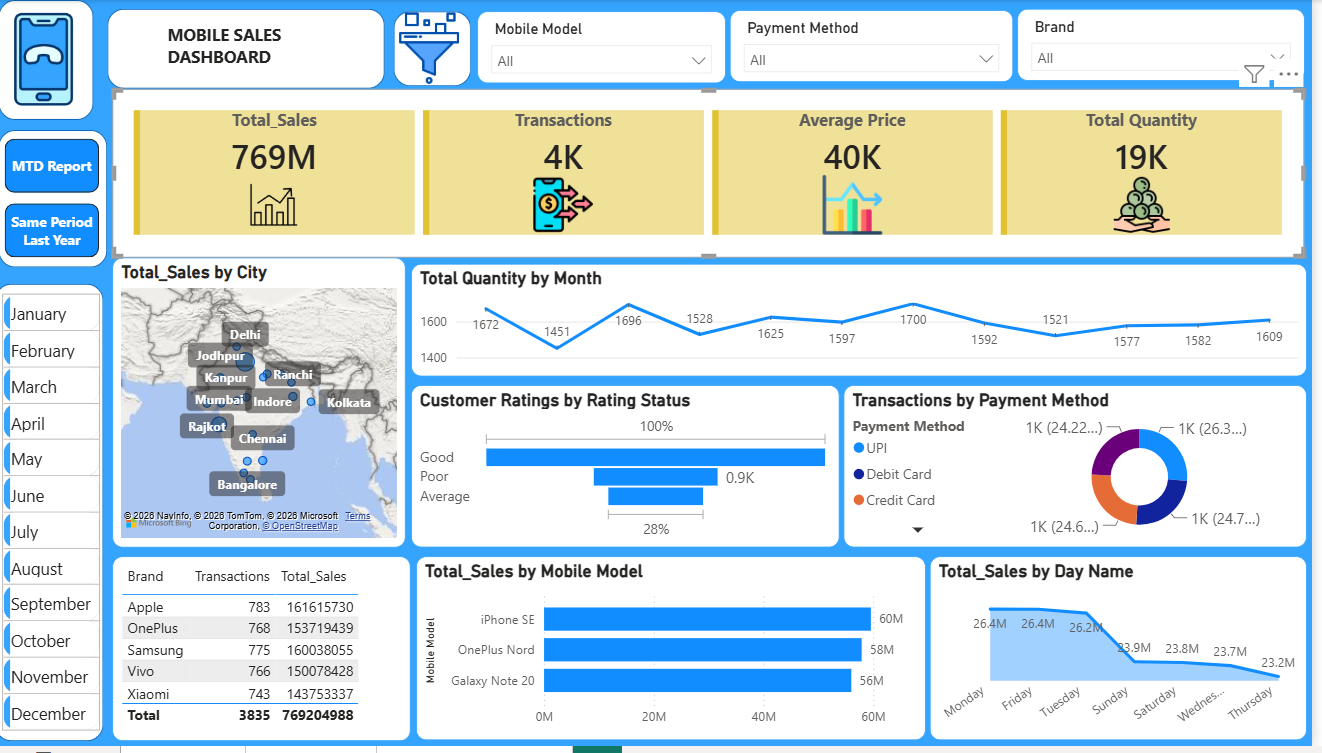

The dashboard page shown, as its layout file describes it:
{"tool":"powerbi","page":{"name":"Dashboard","canvas":[1280,720],"ordinal":0},"visuals":[{"type":"shape","box":[12.1,0,91.7,115.8],"z":0},{"type":"image","box":[0,7.2,111,101.3],"z":1000},{"type":"shape","box":[12.1,125.5,105,132.7],"z":2000},{"type":"shape","box":[8.4,273.9,105,441.6],"z":3000},{"type":"cardVisual","fields":{"Data":["Custom_Calendar.Total_Sales","Custom_Calendar.Transitions","Custom_Calendar.Averege_Price","Custom_Calendar.Total_Quantity"]},"box":[121.9,85.7,1150.9,162.9],"z":4000},{"type":"advancedSlicerVisual","fields":{"Values":["Sales_Data.Date.Variation.Date Hierarchy.Month"]},"box":[10.9,278.4,105,441.6],"z":5000},{"type":"slicer","fields":{"Values":["Custom_Calendar.Mobile Model"]},"box":[474.1,10.9,240.1,70],"z":6000},{"type":"slicer","fields":{"Values":["Custom_Calendar.Payment Method"]},"box":[717.8,9.7,273.9,70],"z":7000},{"type":"slicer","fields":{"Values":["Custom_Calendar.Brand"]},"box":[995.3,8.4,277.5,70],"z":8000},{"type":"shape","box":[393.3,10.9,74.8,72.4],"z":9000},{"type":"image","box":[387.3,10.9,80.8,71.2],"z":10000},{"type":"shape","box":[117,8.4,267.8,77.2],"z":11000},{"type":"textbox","box":[170.1,16.9,191.8,62.7],"z":12000},{"type":"map","fields":{"Category":["Custom_Calendar.City"],"Size":["Custom_Calendar.Total_Sales"]},"box":[121.9,248.5,283.5,279.9],"z":13000},{"type":"lineChart","fields":{"Y":["Custom_Calendar.Total Quantity"],"Category":["Sales_Data.Date.Variation.Date Hierarchy.Month"]},"box":[410.2,254.6,865,108.6],"z":14000},{"type":"funnel","title":" Customer Ratings by Rating Status","fields":{"Y":["CountNonNull(Custom_Calendar.Customer Ratings)"],"Category":["Custom_Calendar.Rating Status"]},"box":[410.2,371.6,413.8,156.8],"z":15000},{"type":"donutChart","fields":{"Y":["Custom_Calendar.Transactions"],"Category":["Custom_Calendar.Payment Method"]},"box":[827.6,371.6,447.6,156.8],"z":16000},{"type":"areaChart","fields":{"Category":["Sales_Data.Day Name"],"Y":["Custom_Calendar.Total_Sales"]},"box":[910.9,536.9,364.3,177.3],"z":17000},{"type":"clusteredBarChart","fields":{"Y":["Custom_Calendar.Total_Sales"],"Category":["Custom_Calendar.Mobile Model"]},"box":[415,536.9,492.2,177.3],"z":18000},{"type":"tableEx","fields":{"Values":["Custom_Calendar.Brand","Custom_Calendar.Transactions","Custom_Calendar.Total_Sales"]},"box":[121.9,536.9,288.3,178.6],"z":19000},{"type":"pageNavigator","box":[18.1,133.9,91.7,114.6],"z":20000}]}

Visuals, with their boxes in screenshot pixels (x1, y1, x2, y2), scaled from the page's 1280x720 canvas onto the 1322x753 screenshot:
shape: pyautogui.locateOnScreen(12, 0, 107, 121)
image: pyautogui.locateOnScreen(0, 8, 115, 113)
shape: pyautogui.locateOnScreen(12, 131, 121, 270)
shape: pyautogui.locateOnScreen(9, 286, 117, 748)
cardVisual - Custom_Calendar.Total_Sales x Custom_Calendar.Transitions: pyautogui.locateOnScreen(126, 90, 1315, 260)
advancedSlicerVisual - Sales_Data.Date.Variation.Date Hierarchy.Month: pyautogui.locateOnScreen(11, 291, 120, 752)
slicer - Custom_Calendar.Mobile Model: pyautogui.locateOnScreen(490, 11, 738, 85)
slicer - Custom_Calendar.Payment Method: pyautogui.locateOnScreen(741, 10, 1024, 83)
slicer - Custom_Calendar.Brand: pyautogui.locateOnScreen(1028, 9, 1315, 82)
shape: pyautogui.locateOnScreen(406, 11, 483, 87)
image: pyautogui.locateOnScreen(400, 11, 483, 86)
shape: pyautogui.locateOnScreen(121, 9, 397, 90)
textbox: pyautogui.locateOnScreen(176, 18, 374, 83)
map - Custom_Calendar.City x Custom_Calendar.Total_Sales: pyautogui.locateOnScreen(126, 260, 419, 553)
lineChart - Custom_Calendar.Total Quantity x Sales_Data.Date.Variation.Date Hierarchy.Month: pyautogui.locateOnScreen(424, 266, 1317, 380)
" Customer Ratings by Rating Status" funnel: pyautogui.locateOnScreen(424, 389, 851, 553)
donutChart - Custom_Calendar.Transactions x Custom_Calendar.Payment Method: pyautogui.locateOnScreen(855, 389, 1317, 553)
areaChart - Sales_Data.Day Name x Custom_Calendar.Total_Sales: pyautogui.locateOnScreen(941, 562, 1317, 747)
clusteredBarChart - Custom_Calendar.Total_Sales x Custom_Calendar.Mobile Model: pyautogui.locateOnScreen(429, 562, 937, 747)
tableEx - Custom_Calendar.Brand x Custom_Calendar.Transactions: pyautogui.locateOnScreen(126, 562, 424, 748)
pageNavigator: pyautogui.locateOnScreen(19, 140, 113, 260)
